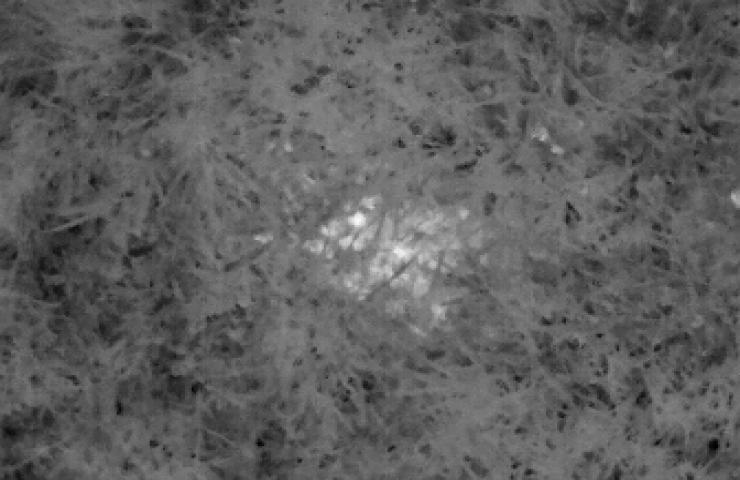landmines: (297, 193, 486, 331)
